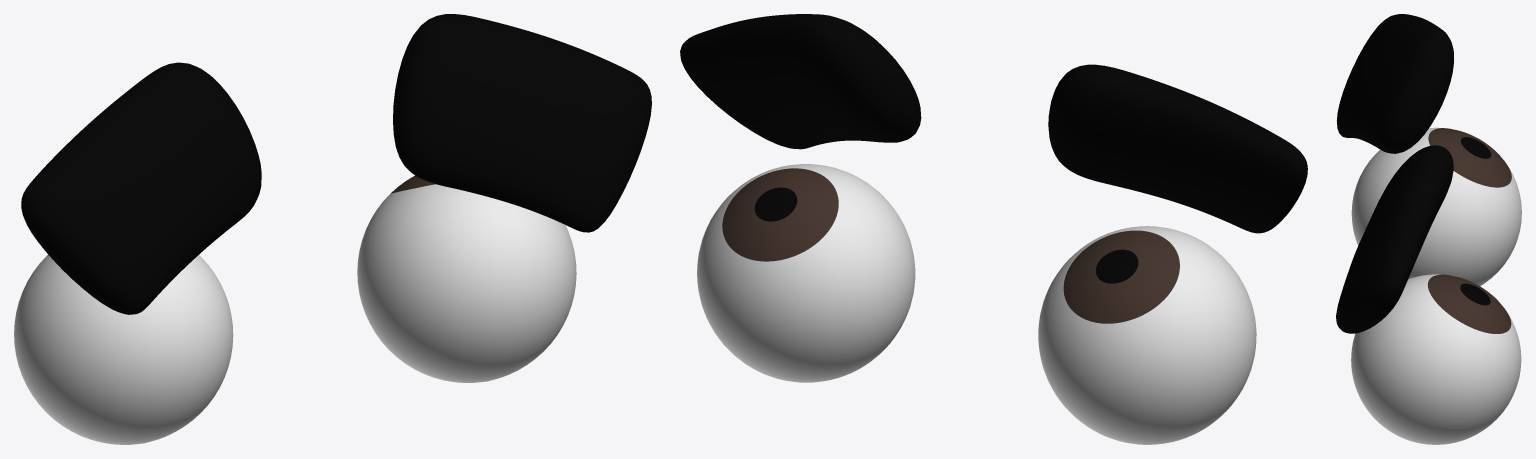
Rendered from nabilEyes.fbx.
3 renders of one model, left to right at view 1: azimuth 30°, elevation 25°; view 2: azimuth 150°, elevation 25°; view 3: azimuth 270°, elevation 25°, orthographic. The views are drawn at different scales.
Parts seen in each view (by area): view 1: Eyebrow, Eyes; view 2: Eyes, Eyebrow; view 3: Eyes, Eyebrow.
Part boxes in pixels (x1=…): Eyebrow: x1=21, y1=14, x2=651, y2=314; Eyes: x1=14, y1=175, x2=576, y2=444; Eyes: x1=697, y1=164, x2=1256, y2=444; Eyebrow: x1=680, y1=14, x2=1307, y2=233; Eyes: x1=1351, y1=127, x2=1521, y2=444; Eyebrow: x1=1336, y1=14, x2=1453, y2=333.
Size of the model in its own units: 33.98 by 19.6 by 11.26.
